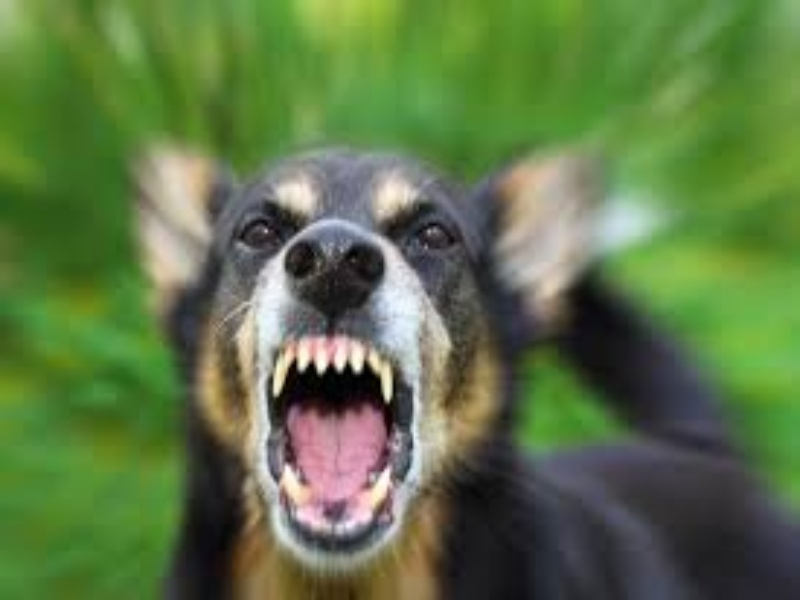dog: (121, 135, 695, 600)
